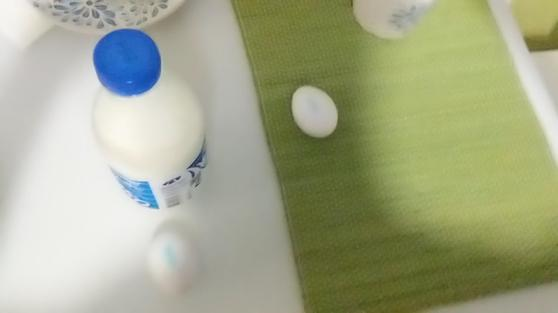egg: (133, 223, 207, 296), (283, 80, 346, 143)
milk: (61, 28, 222, 218)
